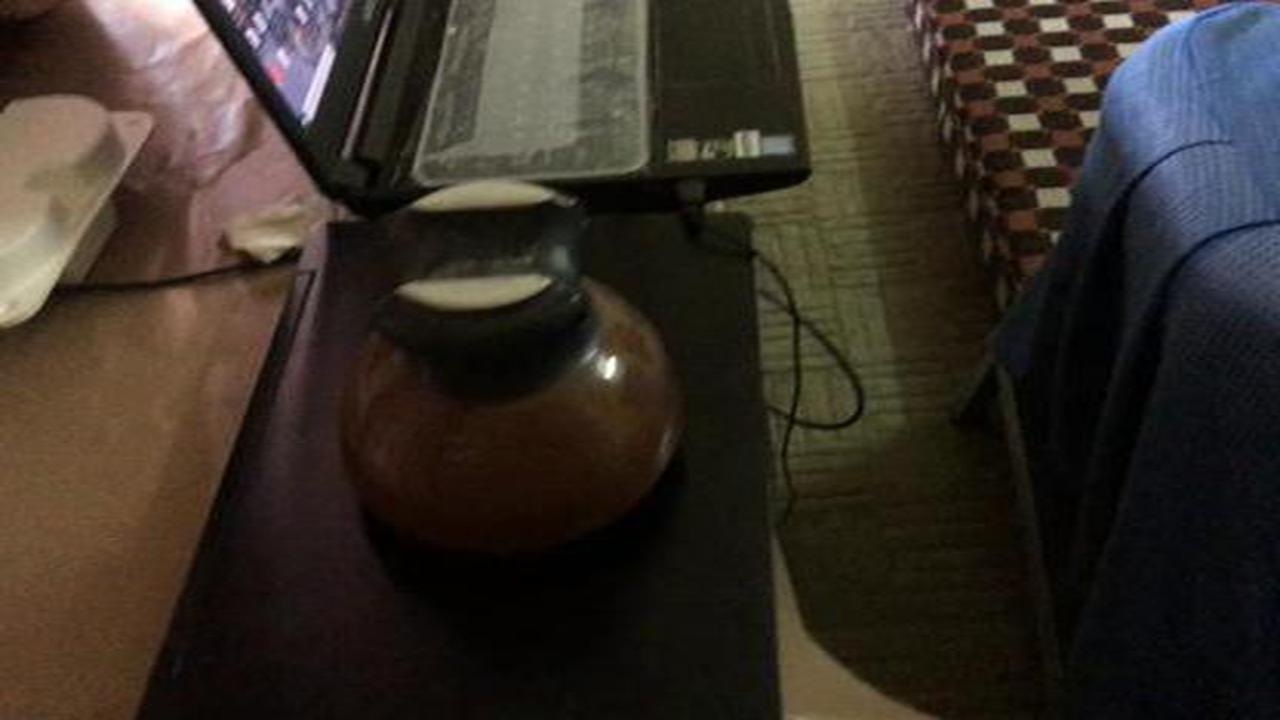insulator_pin: (320, 170, 708, 575)
